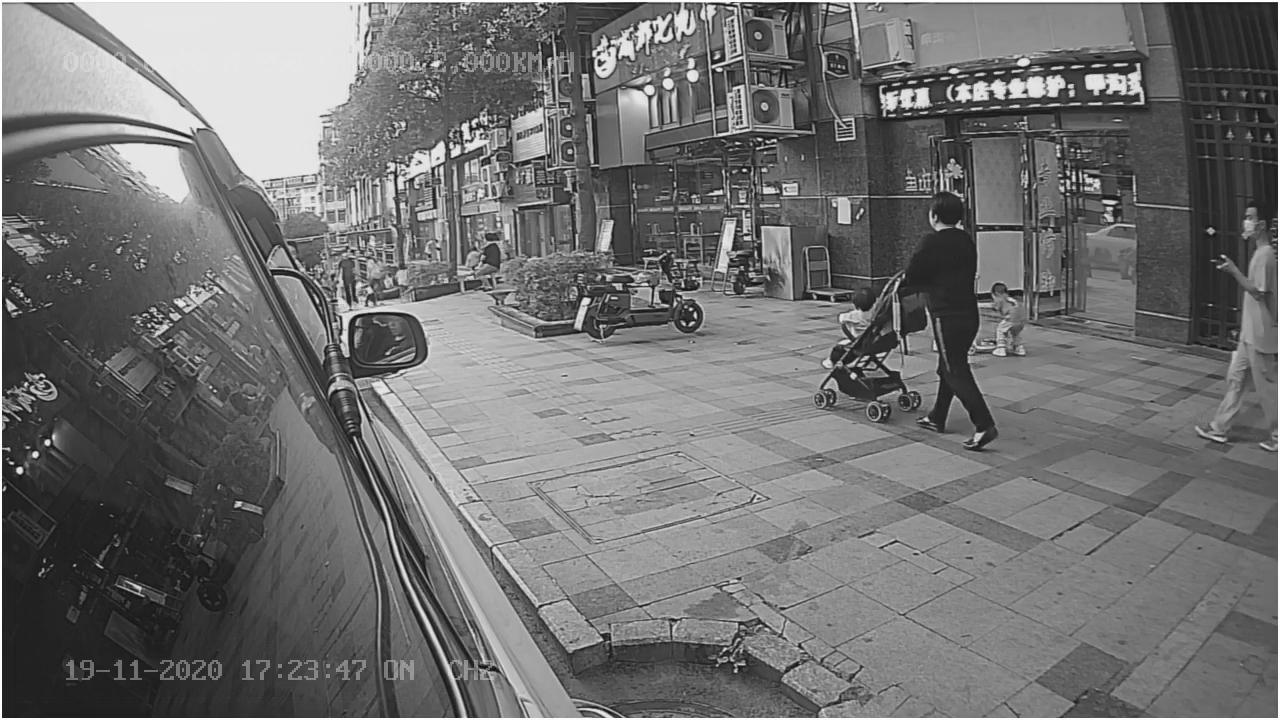person: (894, 191, 1002, 455)
